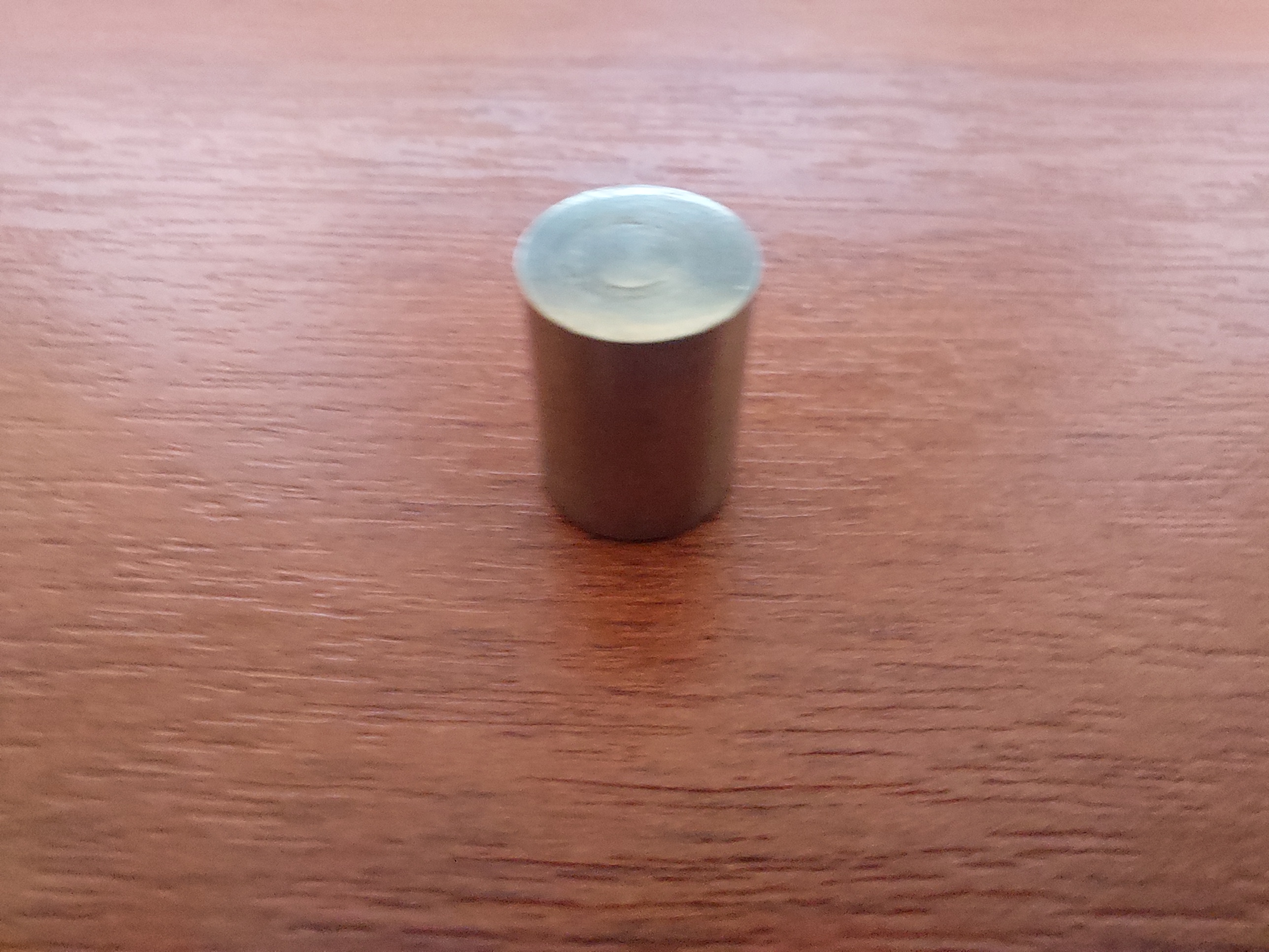tablet: (458, 175, 813, 569)
